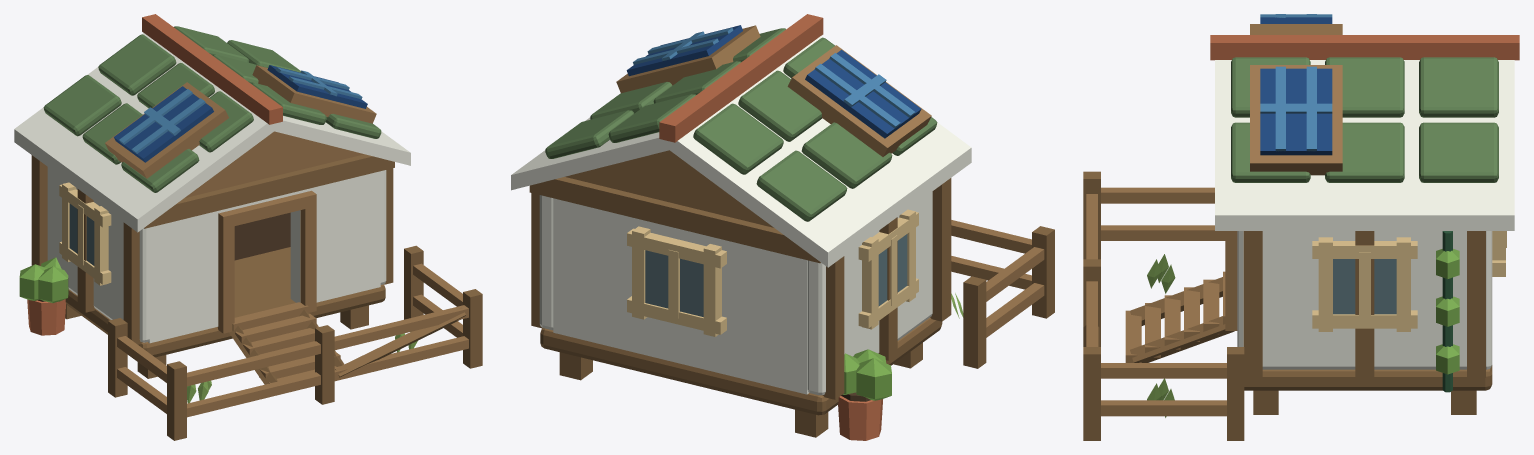
File: coop_solar.glb
The picture shows the model from 3 angles, left to right: view 1: azimuth 30°, elevation 25°; view 2: azimuth 150°, elevation 25°; view 3: azimuth 270°, elevation 25°; orthographic projection. The views are drawn at different scales.
Visible parts, largest first — view 1: Coop_solar_ceramic_roof_left, Coop_solar_front_wall.001, Coop_solar_front_wall, Coop_solar_raised_floor, Coop_solar_ceramic_side, Coop_solar_front_back_beam, Coop_solar_timber_gable, Coop_solar_copper_ridge, Coop_solar_run_front_rail.001, Coop_solar_run_front_rail, Coop_solar_living_roof_tile.002, Coop_solar_living_roof_tile.005 (+49 smaller); view 2: Coop_solar_ceramic_back, Coop_solar_ceramic_roof_left, Coop_solar_ceramic_side, Coop_solar_raised_floor, Coop_solar_front_back_beam.001, Coop_solar_timber_gable.001, Coop_solar_copper_ridge, Coop_solar_living_roof_tile.002, Coop_solar_living_roof_tile.005, Coop_solar_ceramic_roof_right, Coop_solar_roof_array_timber_frame, Coop_solar_living_roof_tile.001 (+40 smaller); view 3: Coop_solar_ceramic_roof_right, Coop_solar_ceramic_side.001, Coop_solar_copper_ridge, Coop_solar_living_roof_tile.011, Coop_solar_living_roof_tile.008, Coop_solar_raised_floor, Coop_solar_roof_array_blue_glass.001, Coop_solar_living_roof_tile.010, Coop_solar_living_roof_tile.007, Coop_solar_roof_array_timber_frame.001, Coop_solar_frame_post.003, Coop_solar_frame_post.005 (+38 smaller).
Part boxes in pixels (left/top/right/bottom): Coop_solar_ceramic_roof_left: left=14, top=33, right=274, bottom=232; Coop_solar_front_wall.001: left=290, top=171, right=380, bottom=302; Coop_solar_front_wall: left=148, top=208, right=230, bottom=343; Coop_solar_raised_floor: left=65, top=247, right=385, bottom=357; Coop_solar_ceramic_side: left=47, top=167, right=153, bottom=342; Coop_solar_front_back_beam: left=144, top=154, right=394, bottom=228; Coop_solar_timber_gable: left=185, top=131, right=363, bottom=197; Coop_solar_copper_ridge: left=142, top=14, right=282, bottom=124; Coop_solar_run_front_rail.001: left=187, top=305, right=468, bottom=386; Coop_solar_run_front_rail: left=187, top=336, right=468, bottom=417; Coop_solar_living_roof_tile.002: left=98, top=34, right=176, bottom=95; Coop_solar_living_roof_tile.005: left=43, top=75, right=121, bottom=136; Coop_solar_ceramic_back: left=553, top=198, right=808, bottom=394; Coop_solar_ceramic_roof_left: left=669, top=36, right=971, bottom=267; Coop_solar_ceramic_side: left=807, top=191, right=932, bottom=395; Coop_solar_raised_floor: left=540, top=317, right=942, bottom=415; Coop_solar_front_back_beam.001: left=529, top=177, right=820, bottom=263; Coop_solar_timber_gable.001: left=565, top=150, right=773, bottom=227; Coop_solar_copper_ridge: left=659, top=14, right=823, bottom=142; Coop_solar_living_roof_tile.002: left=693, top=103, right=783, bottom=174; Coop_solar_living_roof_tile.005: left=756, top=150, right=847, bottom=221; Coop_solar_ceramic_roof_right: left=511, top=117, right=669, bottom=190; Coop_solar_roof_array_timber_frame: left=787, top=45, right=931, bottom=156; Coop_solar_living_roof_tile.001: left=738, top=70, right=822, bottom=141; Coop_solar_ceramic_roof_right: left=1215, top=60, right=1514, bottom=230; Coop_solar_ceramic_side.001: left=1237, top=231, right=1492, bottom=369; Coop_solar_copper_ridge: left=1210, top=35, right=1519, bottom=60; Coop_solar_living_roof_tile.011: left=1419, top=122, right=1498, bottom=182; Coop_solar_living_roof_tile.008: left=1419, top=57, right=1498, bottom=117; Coop_solar_raised_floor: left=1244, top=365, right=1492, bottom=390; Coop_solar_roof_array_blue_glass.001: left=1260, top=68, right=1332, bottom=155; Coop_solar_living_roof_tile.010: left=1325, top=122, right=1404, bottom=182; Coop_solar_living_roof_tile.007: left=1325, top=57, right=1404, bottom=117; Coop_solar_roof_array_timber_frame.001: left=1250, top=65, right=1342, bottom=175; Coop_solar_frame_post.003: left=1243, top=231, right=1262, bottom=377; Coop_solar_frame_post.005: left=1467, top=231, right=1485, bottom=377.
Size of the model in its own units: 2.77 by 2.15 by 2.73.
